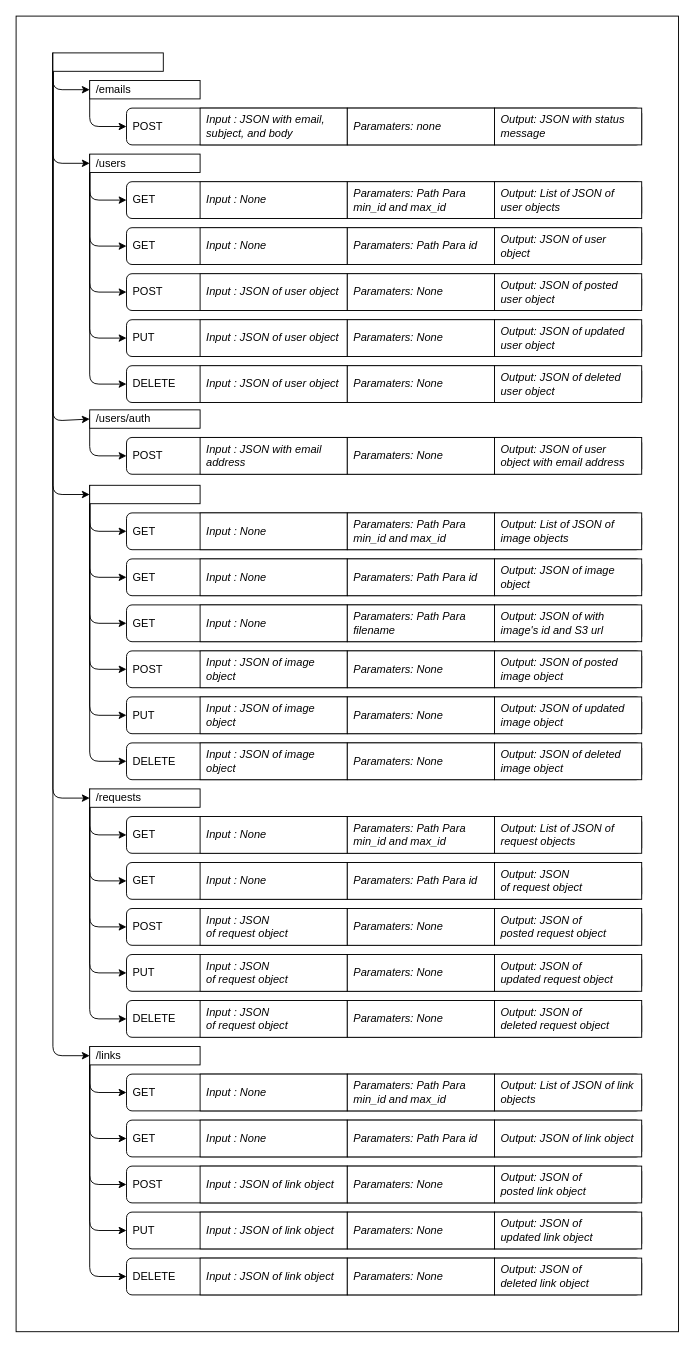
Image size: 695x1348. Some labels were removed from this diagram. The centre of each missing label's shape, as x and y in pixels:
/api/v1: point 107,61
/images: point 144,494
